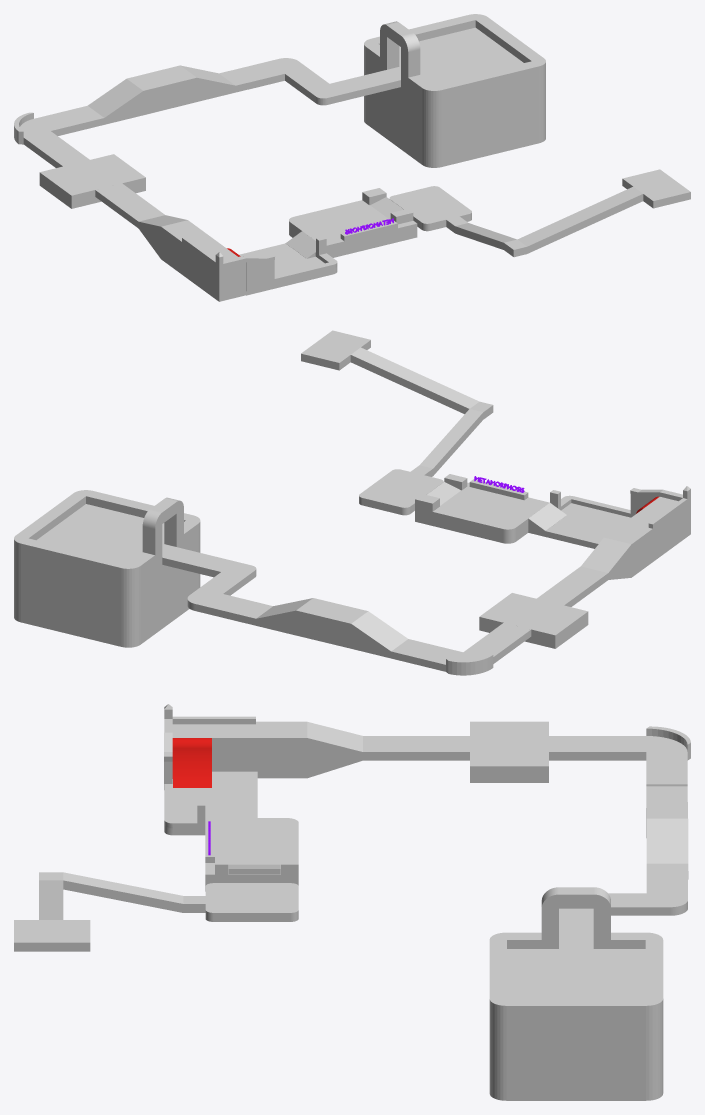
File: track.glb
3 views of the same model, one above another, from view 1: azimuth 30°, elevation 25°; view 2: azimuth 150°, elevation 25°; view 3: azimuth 270°, elevation 25° (orthographic). The views are drawn at different scales.
Visible parts, largest first — view 1: Cube, Cube.002, Cube.010, Cube.004, Cube.009, Cube.003, Cube.005, Cube.001, Cube.006, Cube.008; view 2: Cube, Cube.002, Cube.010, Cube.004, Cube.009, Cube.003, Cube.005, Cube.001, Cube.008; view 3: Cube, Cube.010, Cube.004, Cube.002, Cube.009, Cube.003, Cube.005, Cube.001, Cube.007.
Part boxes in pixels (bbox=[...]): Cube: bbox=[231, 14, 545, 167]; Cube.002: bbox=[14, 65, 196, 222]; Cube.010: bbox=[389, 169, 690, 257]; Cube.004: bbox=[131, 210, 245, 301]; Cube.009: bbox=[289, 188, 417, 257]; Cube.003: bbox=[39, 154, 145, 208]; Cube.005: bbox=[239, 236, 337, 295]; Cube.001: bbox=[180, 65, 247, 101]; Cube.006: bbox=[243, 254, 274, 290]; Cube.008: bbox=[285, 231, 315, 258]; Cube: bbox=[14, 490, 260, 647]; Cube.002: bbox=[296, 571, 601, 675]; Cube.010: bbox=[301, 330, 493, 515]; Cube.004: bbox=[574, 486, 690, 584]; Cube.009: bbox=[415, 474, 549, 543]; Cube.003: bbox=[479, 593, 588, 648]; Cube.005: bbox=[528, 490, 634, 548]; Cube.001: bbox=[243, 598, 312, 635]; Cube.008: bbox=[528, 503, 566, 530]; Cube: bbox=[489, 871, 687, 1100]; Cube.010: bbox=[14, 872, 298, 951]; Cube.004: bbox=[164, 704, 380, 778]; Cube.002: bbox=[380, 726, 690, 837]; Cube.009: bbox=[205, 818, 298, 891]; Cube.003: bbox=[470, 721, 548, 782]; Cube.005: bbox=[164, 771, 257, 835]; Cube.001: bbox=[646, 818, 688, 879]; Cube.007: bbox=[172, 738, 211, 787].
Size of the model in its own units: 80.02 by 17.83 by 78.02.
